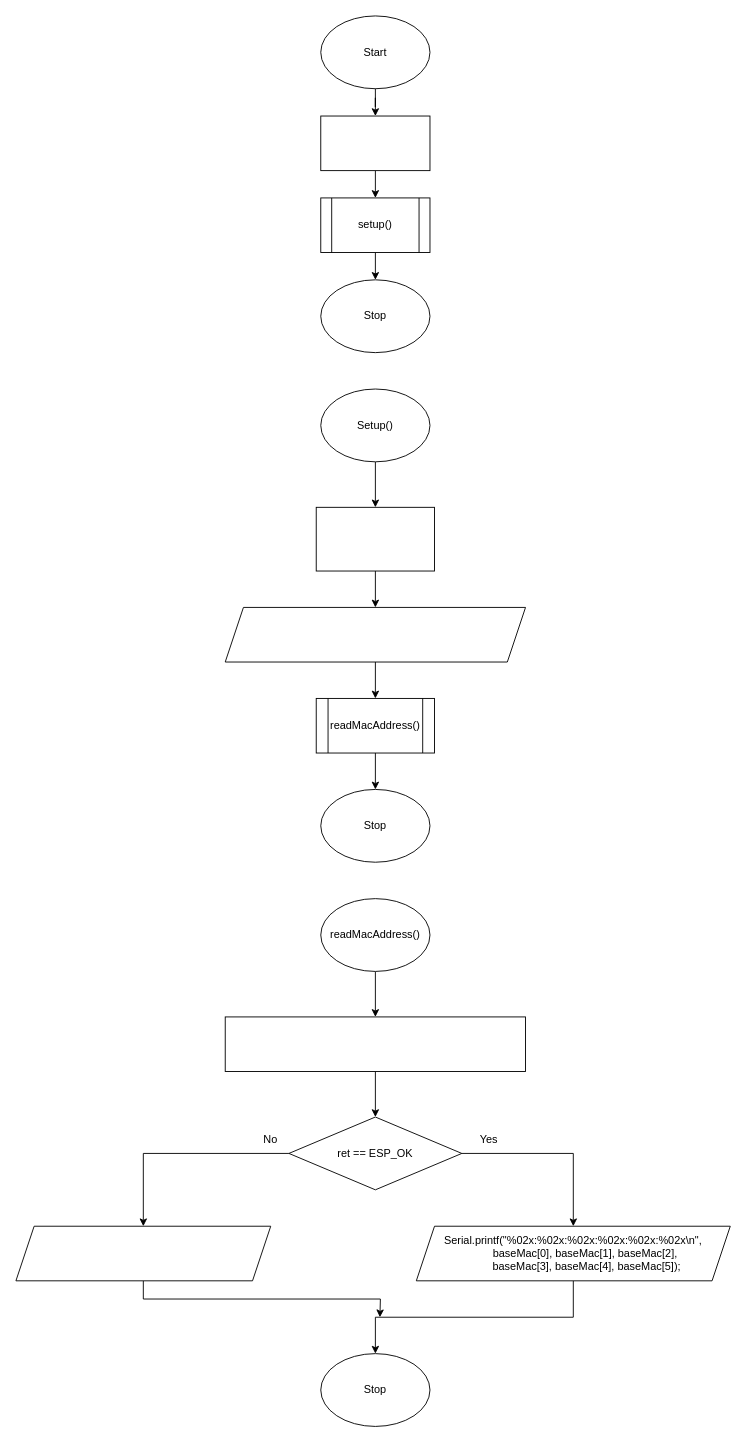
This 746x1442 diagram has some shape labels left out. Here are the shapes that lost their labels. From the top down, the centre of each, then its label:
(x=375, y=143): #include <WiFi.h> #include <esp_wifi.h>
(x=375, y=538): Serial.begin(115200); WiFi.mode(WIFI_STA);
(x=375, y=634): Serial.print("[DEFAULT] ESP32 Board MAC Address: ");
(x=375, y=1044): uint8_t baseMac[6]; esp_err_t ret = esp_wifi_get_mac(WIFI_IF_STA, baseMac);
(x=143, y=1253): Serial.println("Failed to read MAC address");
